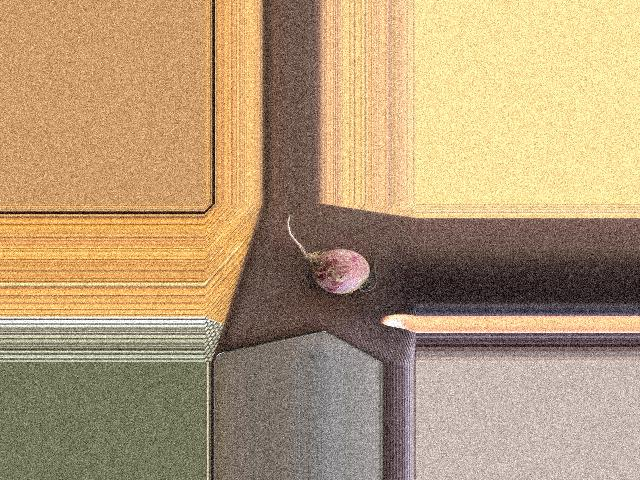beet: (286, 216, 384, 294)
